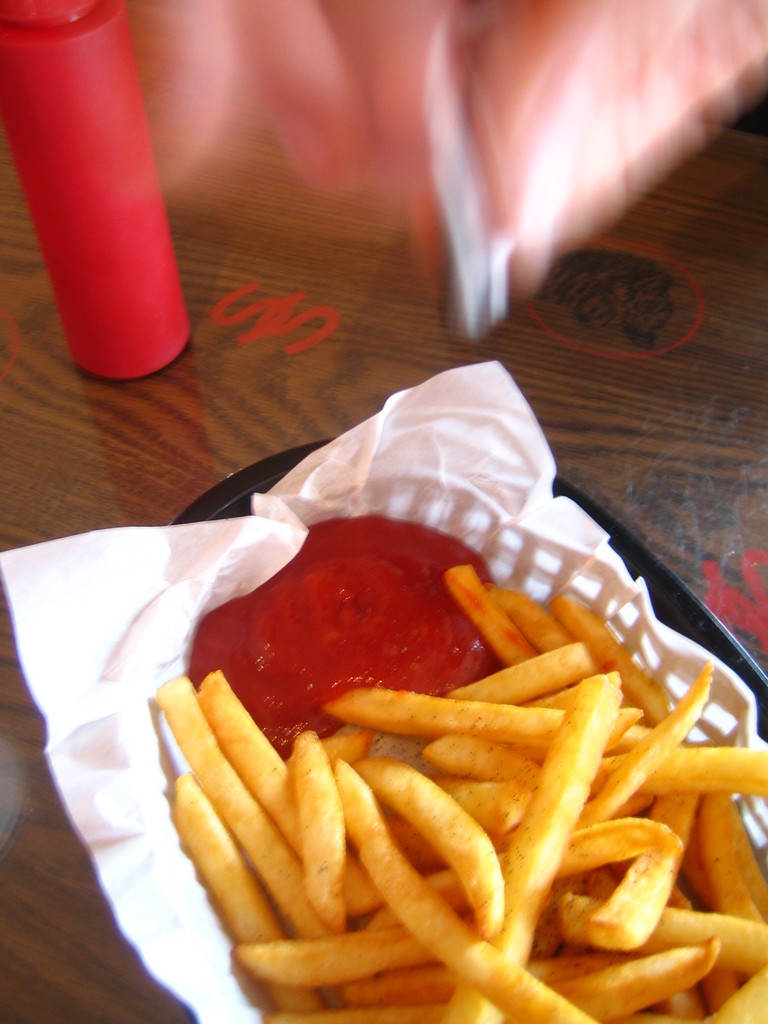French fries: (141, 555, 767, 1023)
